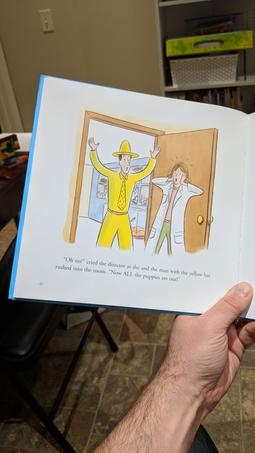text block: (53, 252, 218, 287)
